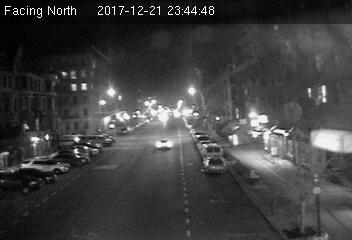car: (203, 156, 225, 173), (154, 137, 174, 149)
truck: (201, 142, 223, 157)
